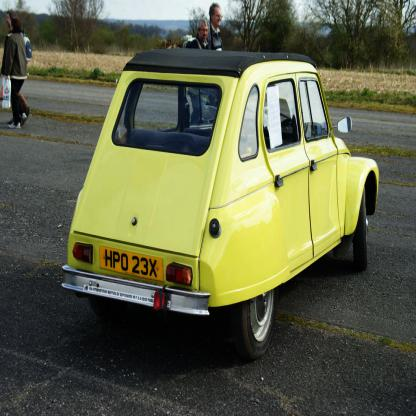Car: (60, 48, 380, 360)
